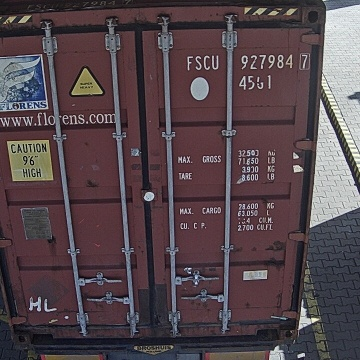serial_id: (187, 53, 309, 69)
